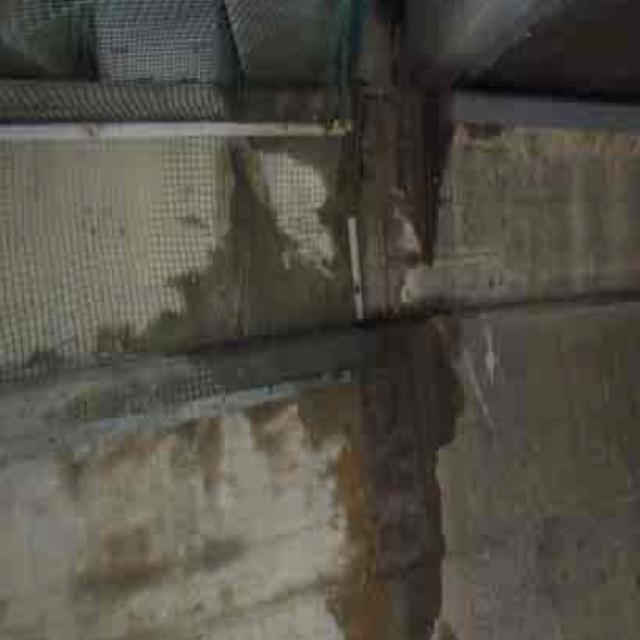leakage: (212, 79, 472, 624)
